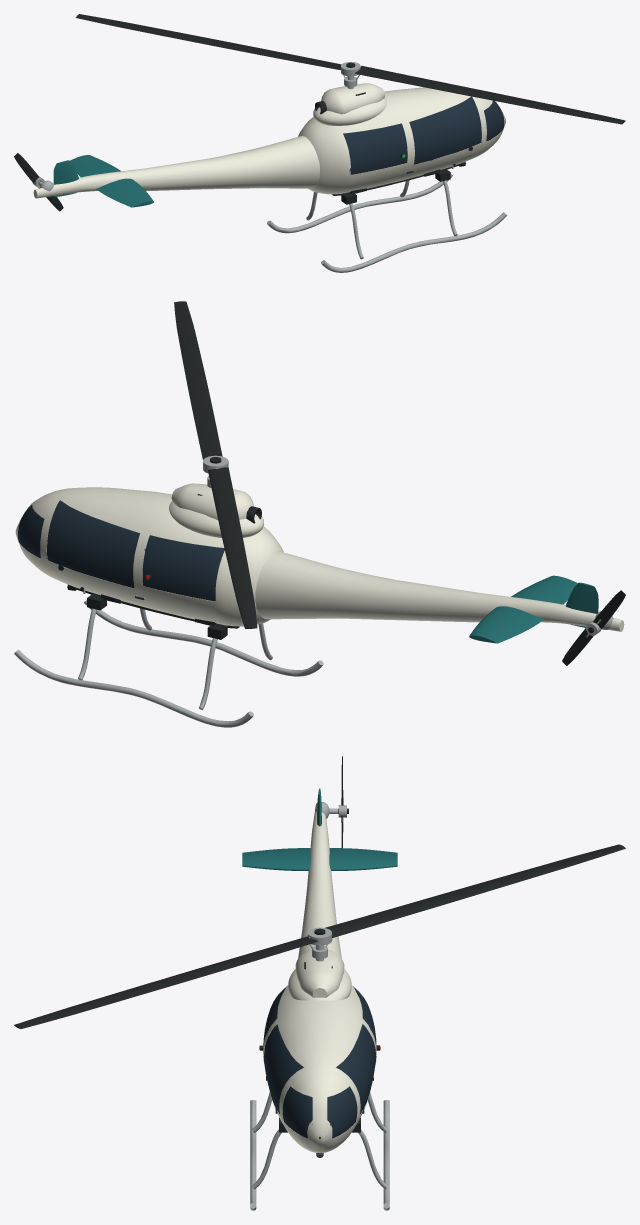
File: helicopter.glb
3 views of the same model, one above another, from view 1: azimuth 30°, elevation 25°; view 2: azimuth 150°, elevation 25°; view 3: azimuth 270°, elevation 25° (orthographic). The views are drawn at different scales.
Visible parts, largest first — view 1: light-helicopter — STATIC material batch; view 2: light-helicopter — STATIC material batch; view 3: light-helicopter — STATIC material batch.
Boxes of the visible parts, bbox=[...] form: light-helicopter — STATIC material batch: bbox=[14, 14, 625, 272]; light-helicopter — STATIC material batch: bbox=[14, 301, 625, 727]; light-helicopter — STATIC material batch: bbox=[14, 756, 625, 1210].
Size of the model in its own units: 9.24 by 3.31 by 8.26.
Materials: 11 (7 with a texture image).
